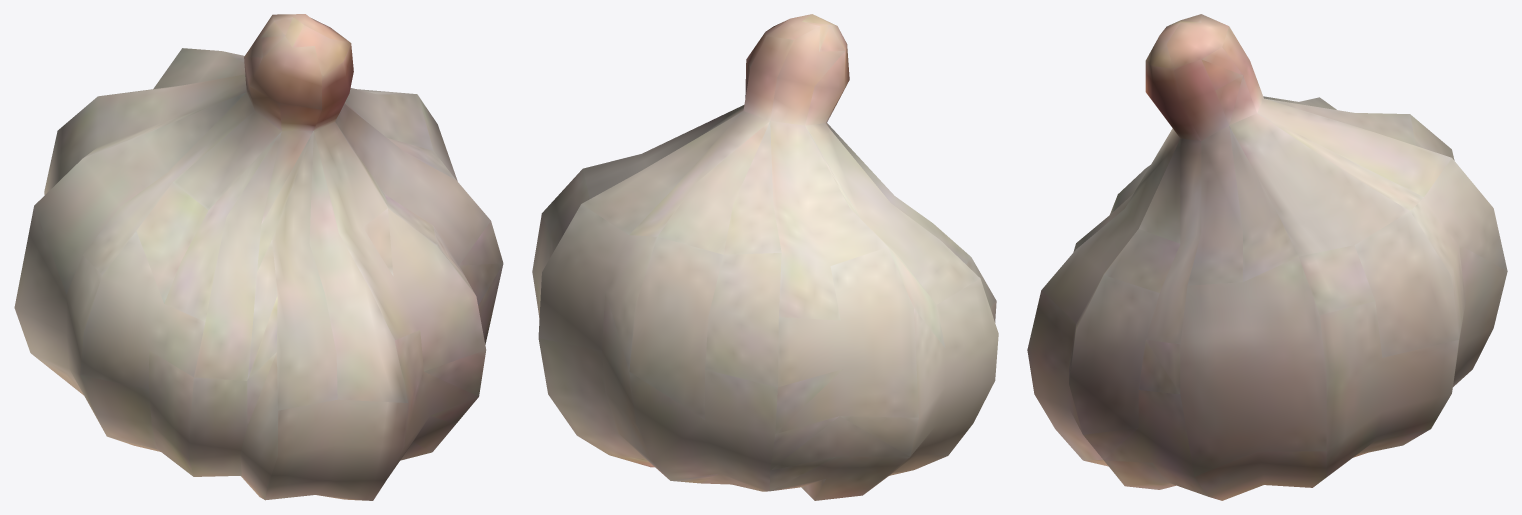
Rendered from garlic.glb.
3 renders of one model, left to right at view 1: azimuth 30°, elevation 25°; view 2: azimuth 150°, elevation 25°; view 3: azimuth 270°, elevation 25°, orthographic. The views are drawn at different scales.
Visible parts, largest first — view 1: Garlic; view 2: Garlic; view 3: Garlic.
Part boxes in pixels (x1=…): Garlic: x1=14, y1=14, x2=503, y2=500; Garlic: x1=532, y1=14, x2=998, y2=500; Garlic: x1=1027, y1=14, x2=1507, y2=500.
Bounding box in the file's own units: 1.5 × 1.56 × 1.54.
1 material, 1 textured.
